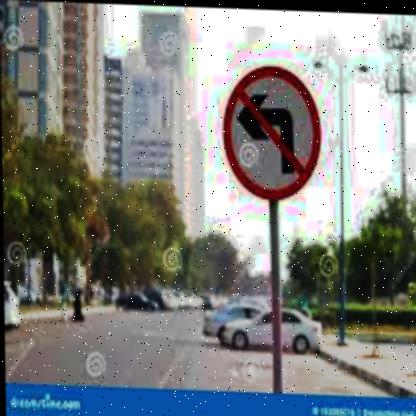No left turn: (218, 60, 321, 199)
